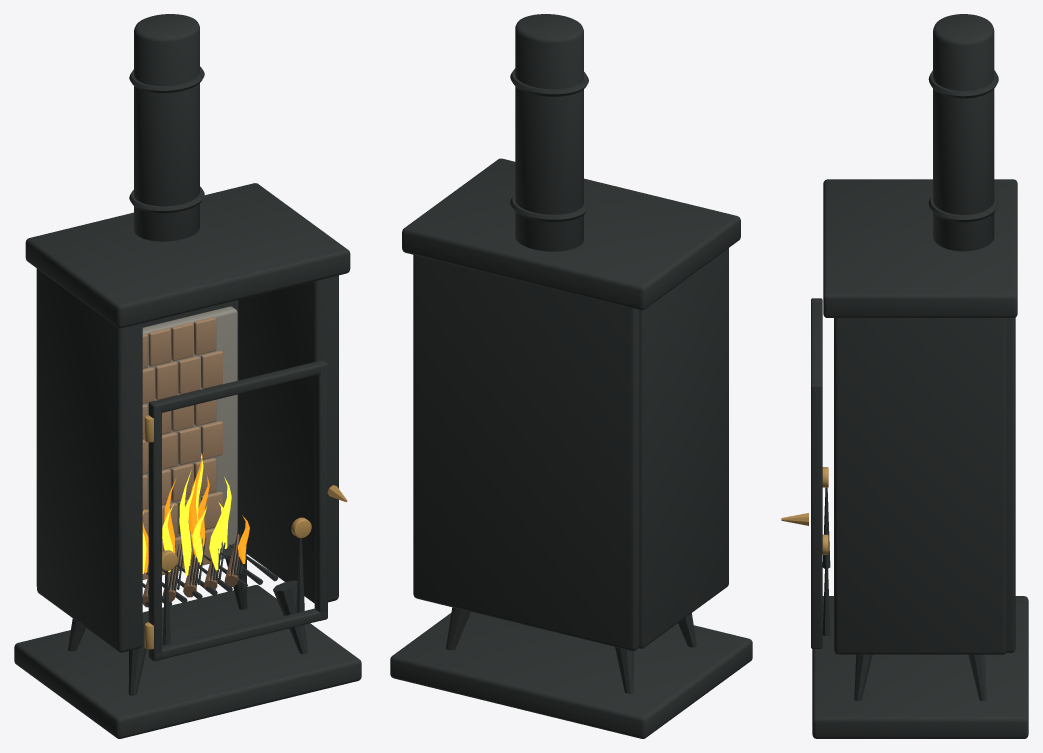
The model's file is wood-stove.glb.
3 views of the same model, side by side, from view 1: azimuth 30°, elevation 25°; view 2: azimuth 150°, elevation 25°; view 3: azimuth 270°, elevation 25° (orthographic). The views are drawn at different scales.
Parts seen in each view (by area): view 1: wood-stove; view 2: wood-stove; view 3: wood-stove.
Boxes of the visible parts, x1,y1,x2,y2 form: wood-stove: (14, 14, 361, 738); wood-stove: (390, 14, 752, 738); wood-stove: (781, 14, 1028, 738).
Bounding box in the file's own units: 0.65 × 1.6 × 0.55.
